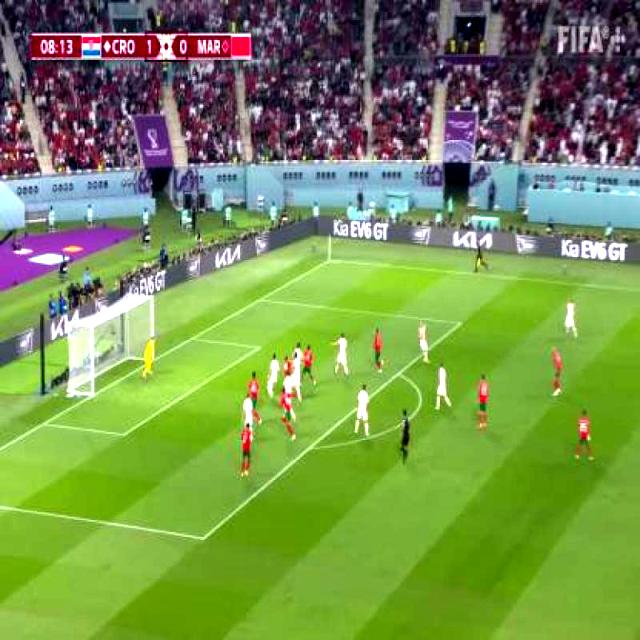bigarea_bottom_inner: (196, 528, 210, 549)
bigarea_top_inner: (454, 316, 468, 334)
bigarea_top_outter: (252, 292, 268, 308)
bottom_arc_area_intersection: (303, 437, 317, 460)
corner: (326, 255, 334, 265)
smallarea_bottom_inner: (118, 426, 132, 446)
smallarea_bottom_outter: (37, 415, 51, 435)
smallarea_top_inner: (252, 337, 268, 358)
smallarea_top_outter: (186, 330, 202, 348)
top_arc_area_intersection: (394, 365, 406, 383)
